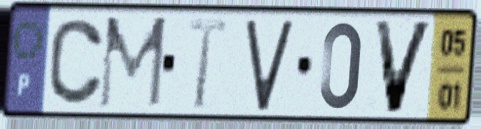0: (318, 19, 365, 114)
C: (46, 16, 107, 108)
M: (95, 13, 170, 112)
T: (186, 15, 229, 113)
V: (371, 16, 437, 117), (243, 16, 297, 115)
